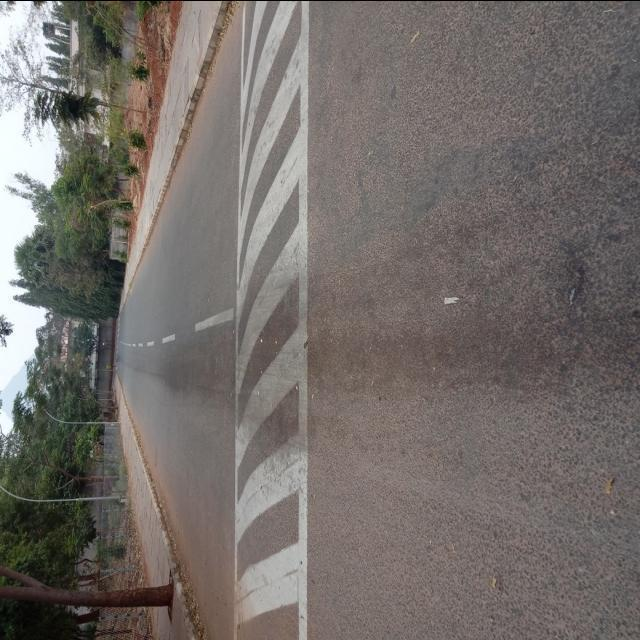speedbreaker: (220, 2, 314, 640)
